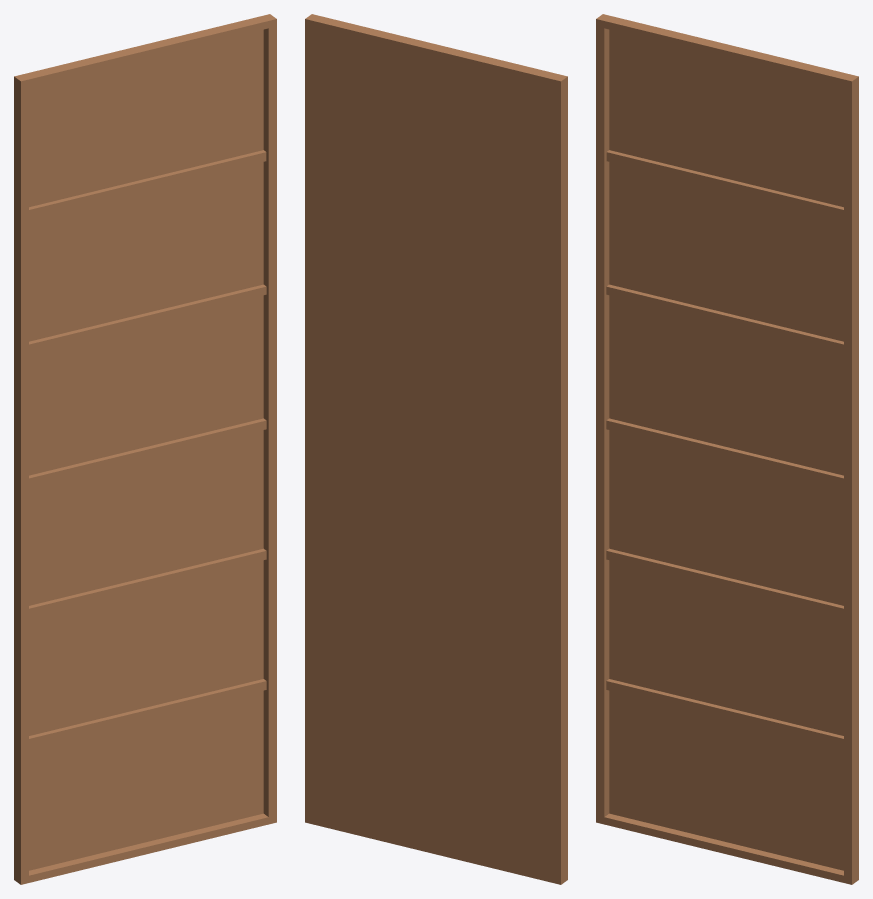
Rendered from Panel12by4.fbx.
3 renders of one model, left to right at view 1: azimuth 30°, elevation 25°; view 2: azimuth 150°, elevation 25°; view 3: azimuth 330°, elevation 25°, orthographic.
Parts seen in each view (by area): view 1: Panel12by4; view 2: Panel12by4; view 3: Panel12by4.
Boxes of the visible parts, <box> form: Panel12by4: <box>14,14,276,884</box>; Panel12by4: <box>305,14,567,884</box>; Panel12by4: <box>596,14,858,884</box>.
Bounding box in the file's own units: 112 × 5.16 × 336.
